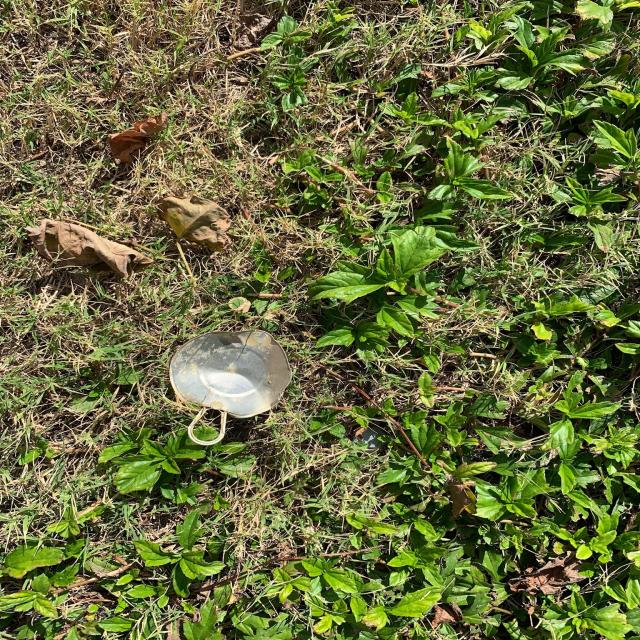litter: (171, 330, 289, 447)
